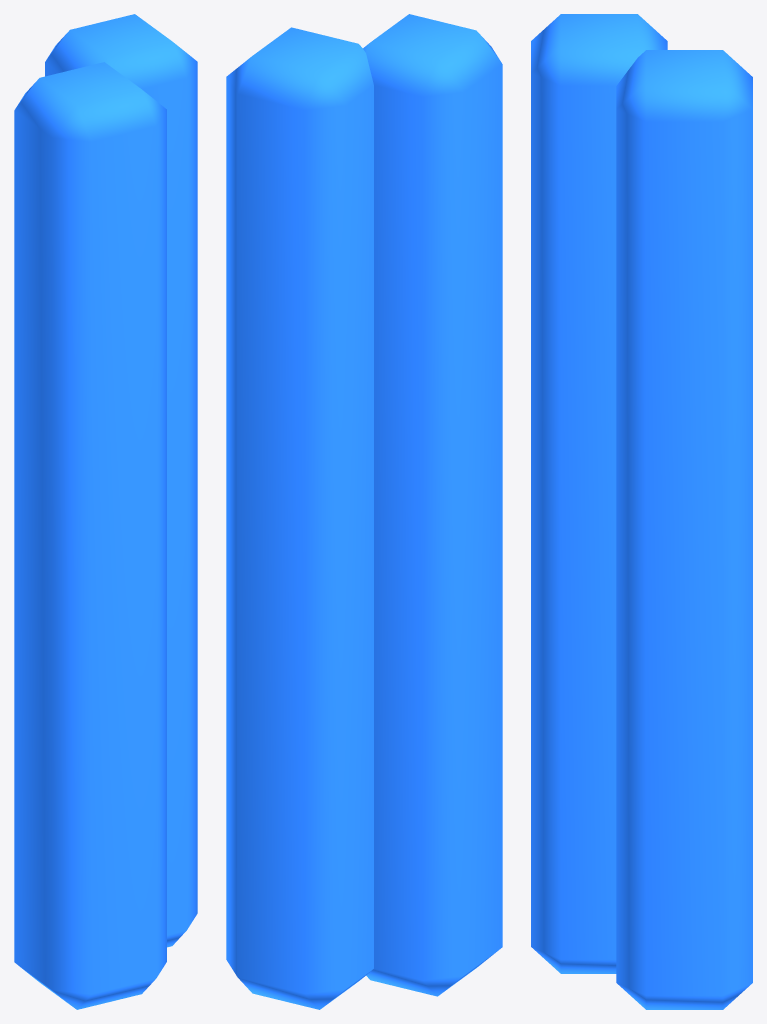
Rendered from Corner_Guard.fbx.
The picture shows the model from 3 angles, left to right: view 1: azimuth 30°, elevation 25°; view 2: azimuth 150°, elevation 25°; view 3: azimuth 270°, elevation 25°; orthographic projection. The views are drawn at different scales.
Visible parts, largest first — view 1: Face A, Face B; view 2: Face B, Face A; view 3: Face B, Face A.
Boxes of the visible parts, box(x1,y1,x2,y2) form: Face A: box(14, 62, 166, 1009); Face B: box(45, 14, 197, 947); Face B: box(226, 27, 373, 1009); Face A: box(363, 14, 502, 996); Face B: box(616, 50, 752, 1009); Face A: box(531, 14, 667, 973).
Size of the model in its own units: 26 by 120 by 26.
